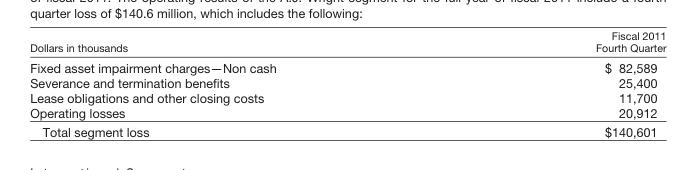table: (29, 28, 665, 139)
table column: (29, 28, 435, 139), (435, 28, 665, 139)
table column header: (29, 28, 665, 56)
table row: (29, 28, 665, 56), (29, 56, 665, 74), (29, 105, 665, 122), (29, 122, 665, 139), (29, 74, 665, 90), (29, 90, 665, 105)
